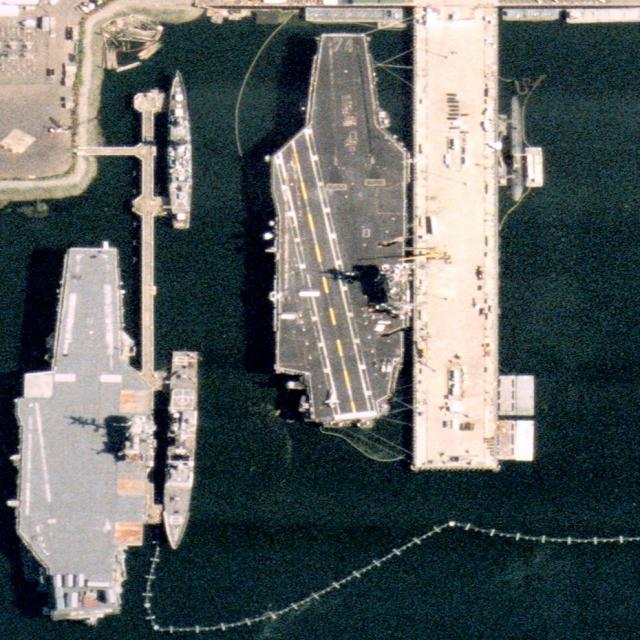Aircraft Carrier: (266, 33, 410, 423), (8, 246, 155, 621)
Cruiser: (158, 350, 201, 550)
Dock: (414, 8, 498, 468), (133, 91, 167, 390)
Frigate: (169, 69, 193, 230)
Submarine: (511, 96, 522, 200)
